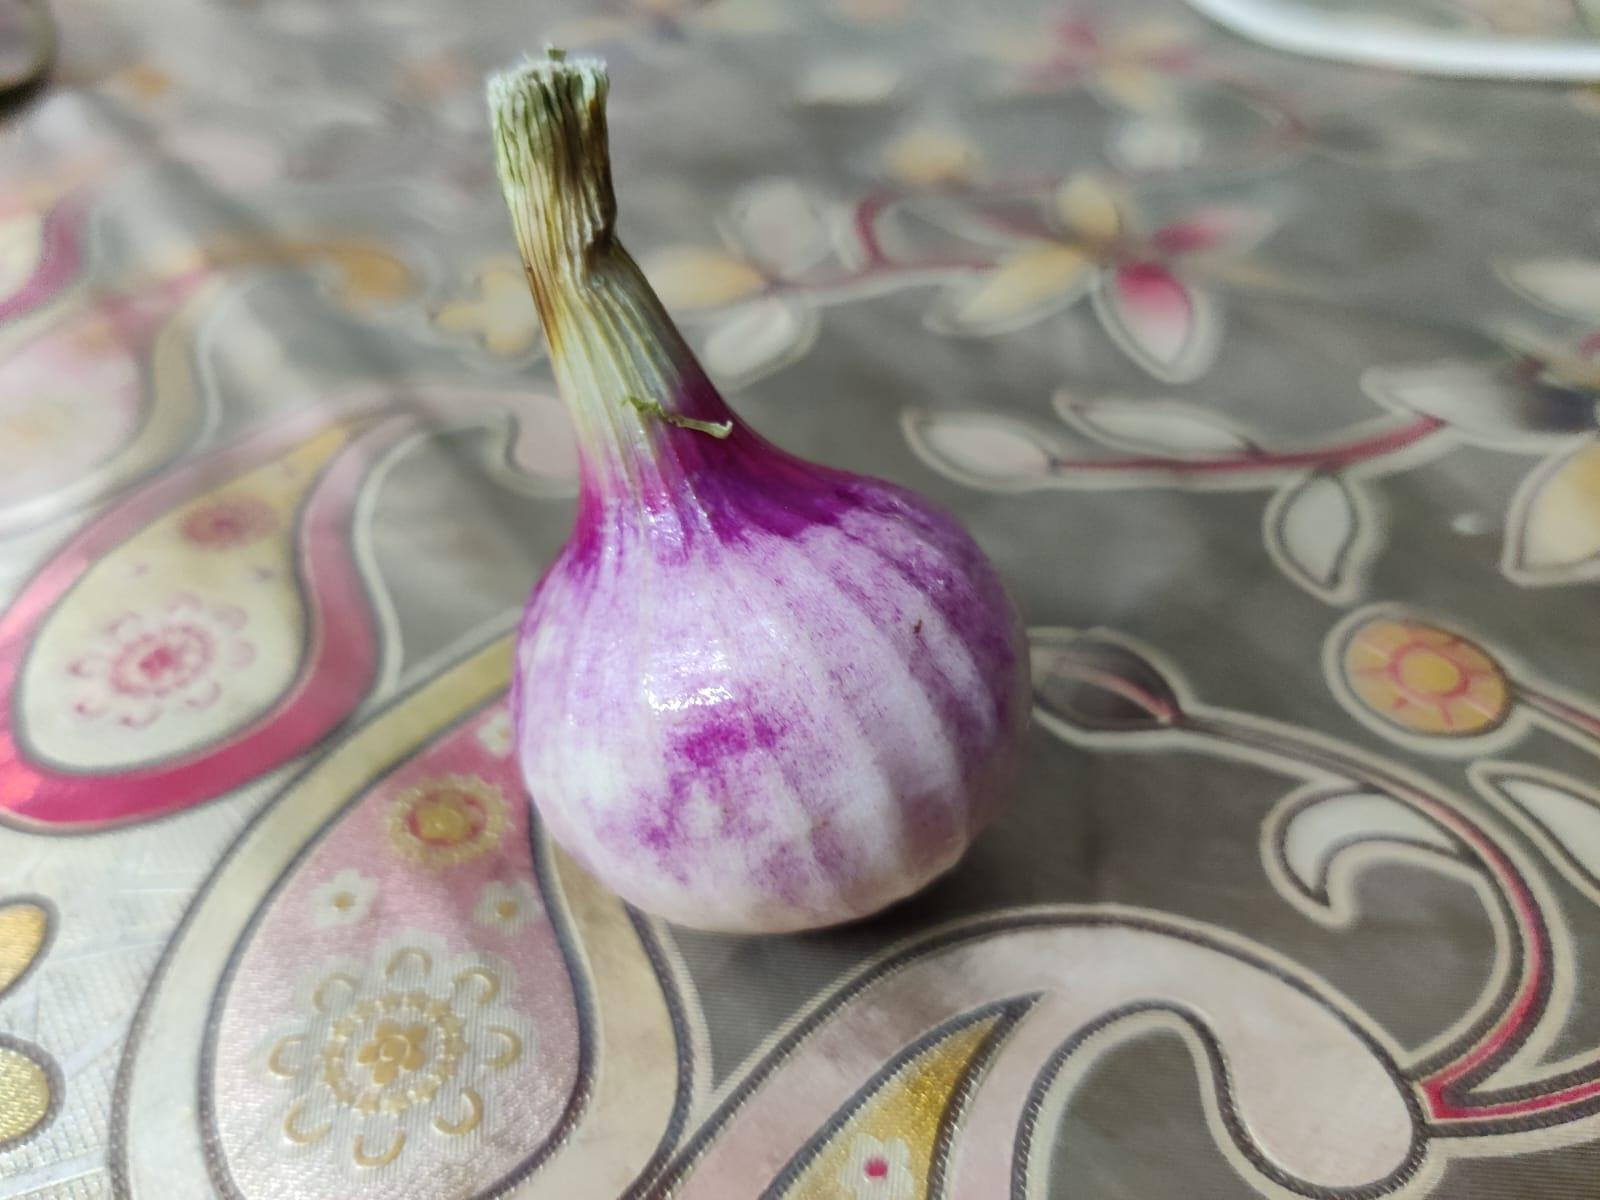non-mango: (474, 32, 1038, 952)
